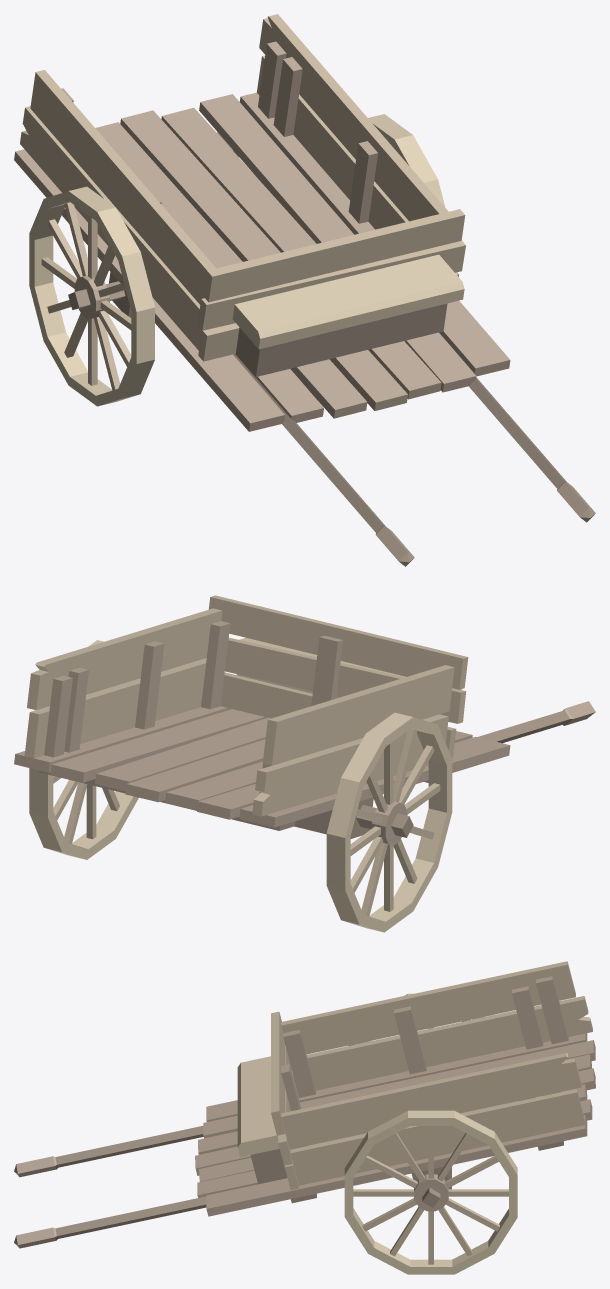
The model's file is carretilla1.glb.
The picture shows the model from 3 angles, top to bottom: view 1: azimuth 30°, elevation 25°; view 2: azimuth 150°, elevation 25°; view 3: azimuth 270°, elevation 25°; orthographic projection. The views are drawn at different scales.
Parts seen in each view (by area): view 1: object12, object24, object1, object21, object5, object23, object10, object31, object9, object14, object17, object11 (+12 smaller); view 2: object24, object1, object23, object31, object17, object4, object11, object29, object5, object36, object10, object14 (+17 smaller); view 3: object31, object1, object11, object4, object36, object13, object20, object12, object2, object14, object33, object26 (+12 smaller).
Part boxes in pixels (box(x1,y1,x2,y2)): object12: box(232, 254, 464, 376); object24: box(29, 186, 154, 406); object1: box(30, 70, 216, 304); object21: box(120, 110, 407, 410); object5: box(199, 94, 476, 392); object23: box(203, 209, 465, 302); object10: box(161, 107, 441, 399); object31: box(259, 14, 448, 221); object9: box(95, 122, 367, 418); object14: box(14, 149, 284, 431); object17: box(41, 202, 131, 390); object11: box(20, 106, 201, 350); object24: box(326, 712, 452, 932); object1: box(262, 665, 454, 765); object23: box(208, 595, 468, 689); object31: box(27, 608, 222, 710); object17: box(350, 728, 440, 916); object4: box(24, 658, 206, 758); object11: box(252, 714, 448, 816); object29: box(225, 637, 466, 723); object5: box(50, 709, 267, 782); object36: box(29, 640, 138, 859); object10: box(95, 718, 270, 791); object14: box(239, 736, 510, 827); object31: box(281, 1053, 581, 1149); object1: box(281, 961, 575, 1054); object11: box(306, 996, 592, 1090); object4: box(290, 1089, 585, 1185); object36: box(344, 1110, 517, 1274); object13: box(353, 1126, 508, 1264); object20: box(206, 1115, 587, 1216); object12: box(237, 1056, 287, 1184); object2: box(203, 1040, 595, 1138); object14: box(206, 1033, 587, 1121); object33: box(14, 1196, 206, 1248); object26: box(14, 1126, 203, 1177).
Bounding box in the file's own units: 1.8 × 1.3 × 3.36.
